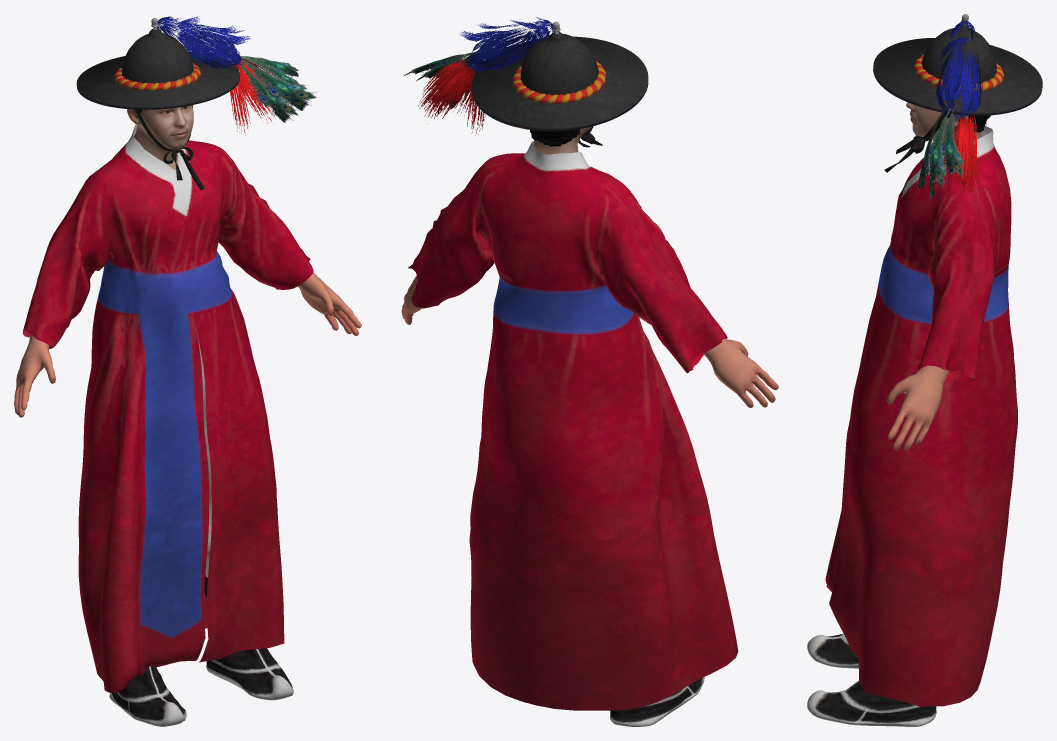
Rendered from guard.fbx.
3 renders of one model, left to right at view 1: azimuth 30°, elevation 25°; view 2: azimuth 150°, elevation 25°; view 3: azimuth 270°, elevation 25°, orthographic. The views are drawn at different scales.
Parts seen in each view (by area): view 1: NPC_Geumgun_Mesh_0; view 2: NPC_Geumgun_Mesh_0; view 3: NPC_Geumgun_Mesh_0.
Part boxes in pixels (x1,y1,x2,y2): NPC_Geumgun_Mesh_0: (14,16,361,726); NPC_Geumgun_Mesh_0: (401,17,778,726); NPC_Geumgun_Mesh_0: (807,14,1042,726).
Bounding box in the file's own units: 99.92 × 183 × 57.43.
Materials: 4 (4 with a texture image).
